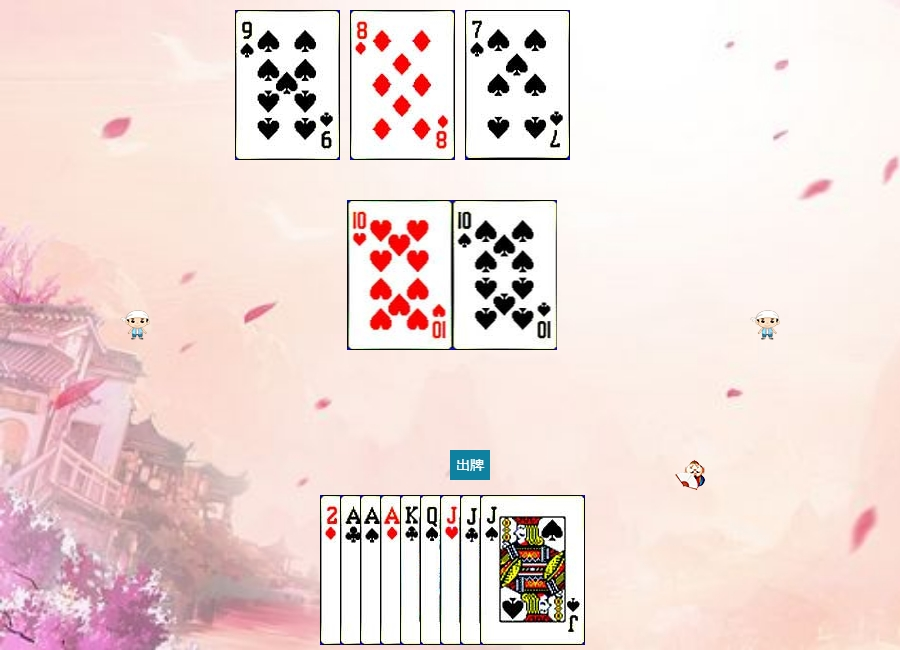10~3: (348, 200, 453, 350)
10~4: (453, 200, 558, 350)
11~2: (460, 495, 565, 645)
11~3: (440, 495, 545, 645)
11~4: (480, 495, 585, 645)
12~4: (420, 495, 525, 645)
13~2: (400, 495, 505, 645)
14~1: (380, 495, 485, 645)
14~2: (340, 495, 445, 645)
14~4: (360, 495, 465, 645)
15~1: (320, 495, 425, 645)
7~4: (465, 10, 570, 160)
8~1: (350, 10, 455, 160)
9~4: (235, 10, 340, 160)
